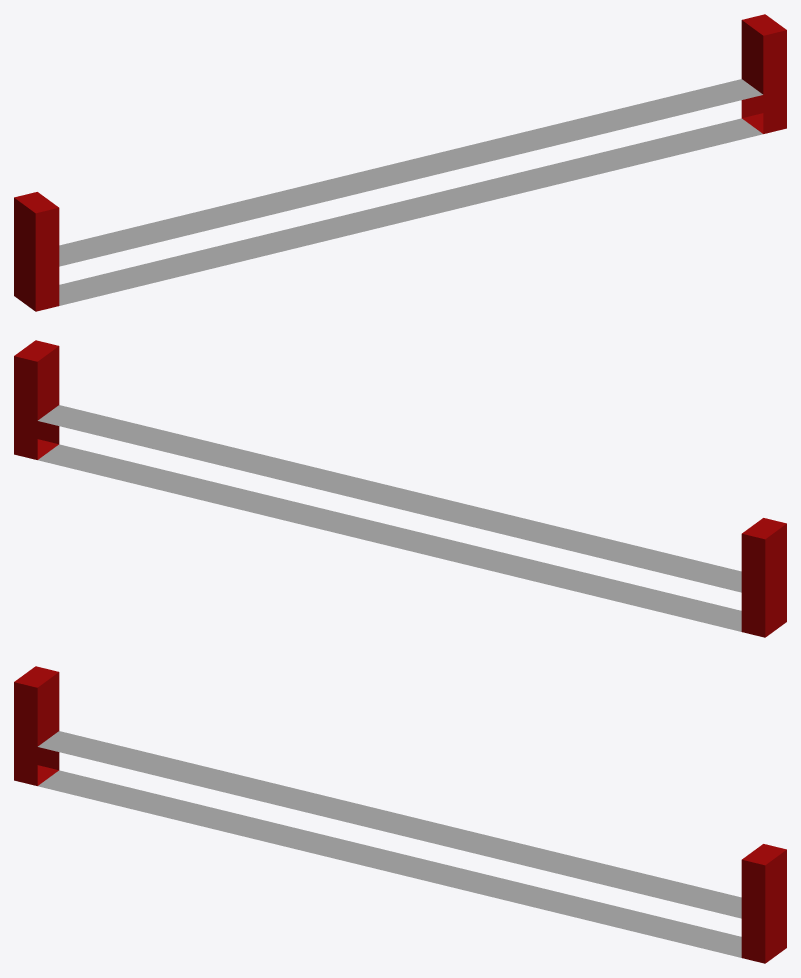
The model's file is RoadTile.fbx.
3 renders of one model, top to bottom at view 1: azimuth 30°, elevation 25°; view 2: azimuth 150°, elevation 25°; view 3: azimuth 330°, elevation 25°, orthographic.
Parts seen in each view (by area): view 1: pCube1; view 2: pCube1; view 3: pCube1.
Boxes of the visible parts, left/top/right/bottom form: pCube1: left=14, top=14, right=786, bottom=311; pCube1: left=14, top=340, right=786, bottom=637; pCube1: left=14, top=666, right=786, bottom=963.
Size of the model in its own units: 19.97 by 2.5 by 1.
